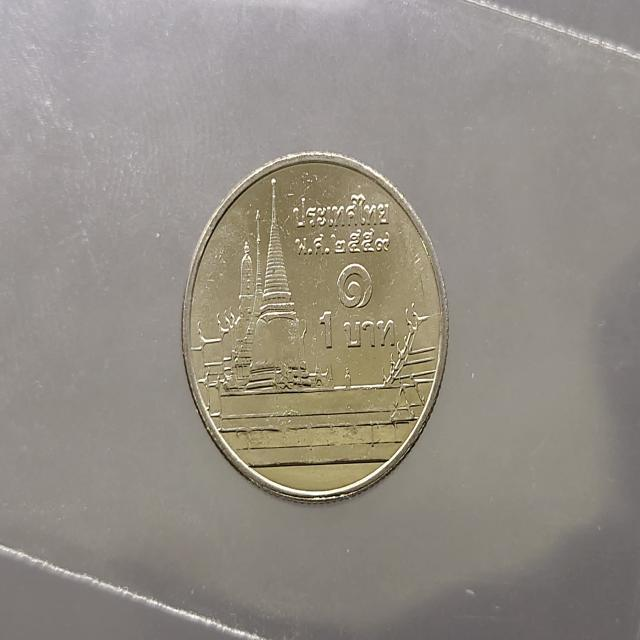1 Bath: (178, 144, 457, 512)
